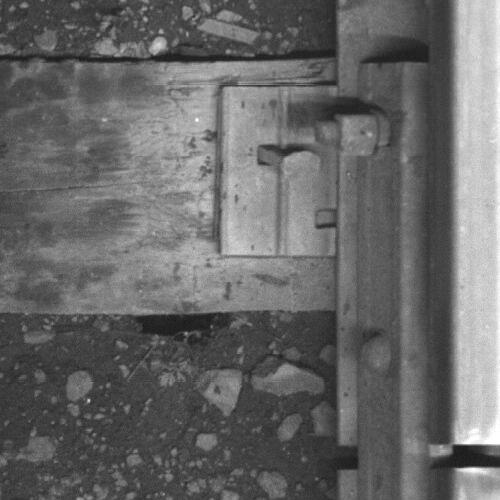do: (218, 84, 350, 256)
fp_beg: (358, 38, 430, 82)
joint: (430, 442, 500, 472)
nail_pulled: (254, 136, 322, 180)
rail: (449, 1, 500, 500)
tie_wood: (1, 54, 338, 309)
